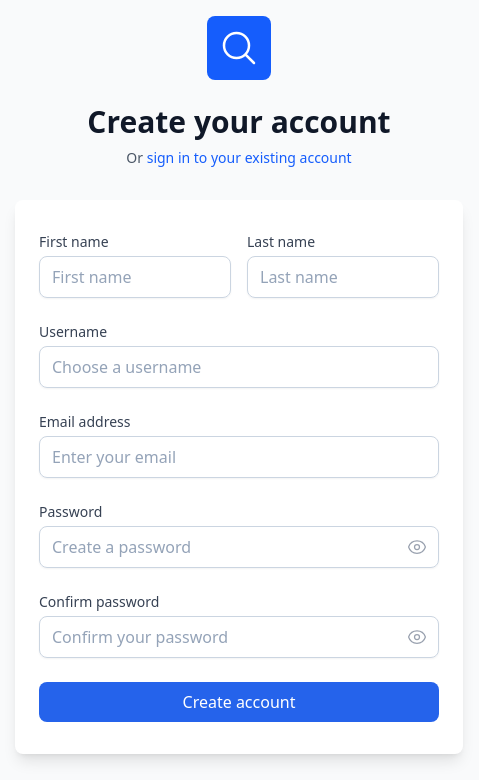
Test: RegisterPage › Form Submission › shows error message when registration fails with 403
This screenshot has width=479, height=780.
# Fill and submit form
Type "John" into the field labelled "First name" at (135, 277), box x1=39 y1=256 x2=231 y2=298
Type "Doe" into the field labelled "Last name" at (343, 277), box x1=247 y1=256 x2=439 y2=298
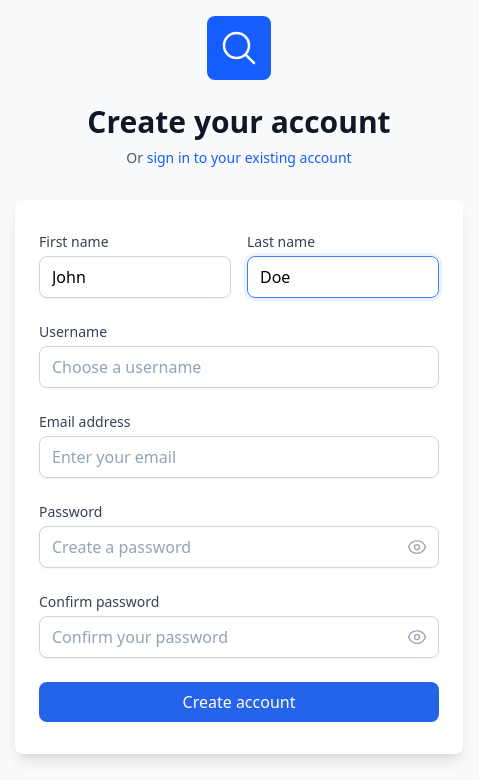
Type "johndoe" into the field labelled "Username" at (239, 367), box x1=39 y1=346 x2=439 y2=388
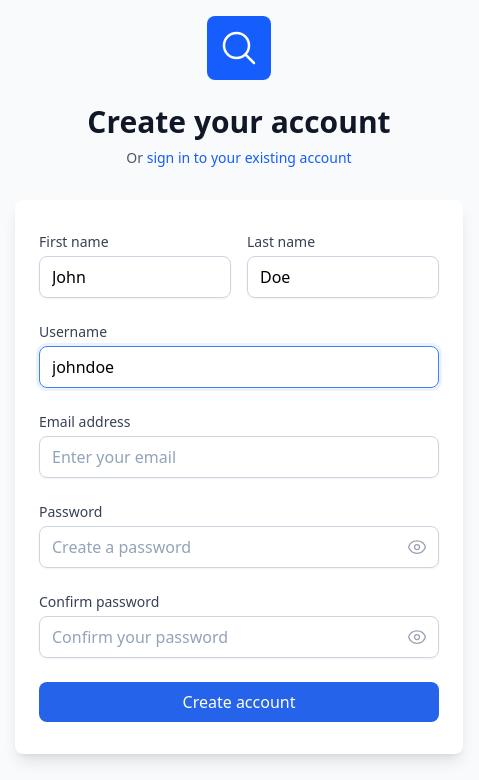
Type "john@example.com" into the field labelled "Email address" at (239, 457), box x1=39 y1=436 x2=439 y2=478
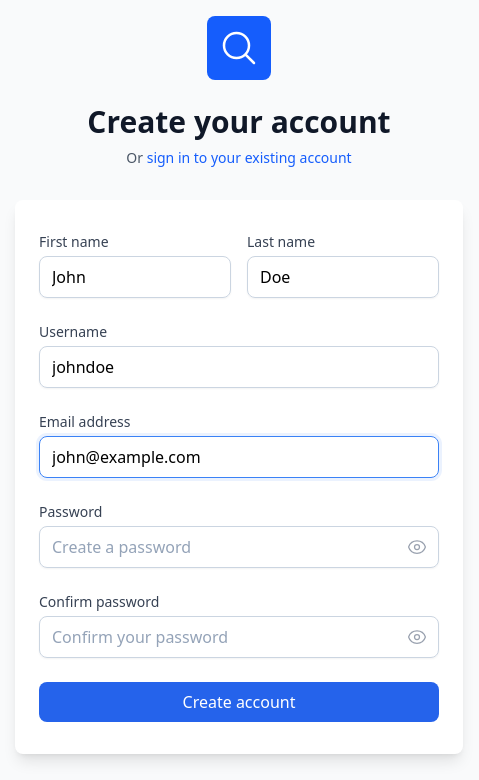
Type "Password123!" into the password field labelled "Password" at (239, 547), box x1=39 y1=526 x2=439 y2=568
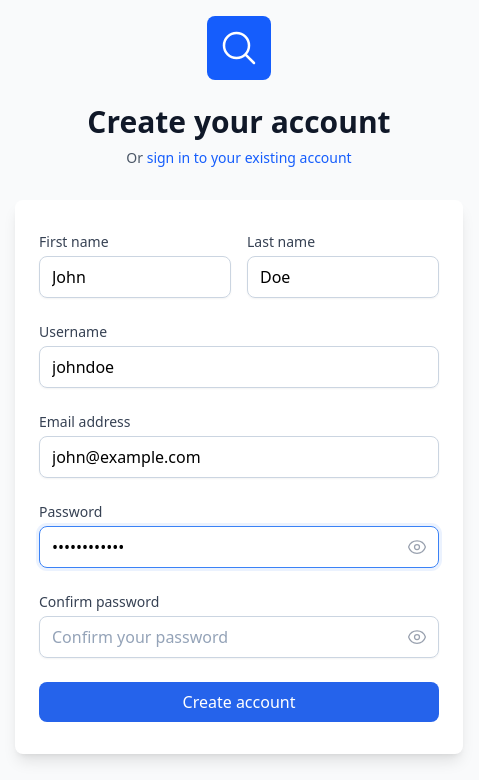
Type "Password123!" into the password field labelled "Confirm password" at (239, 637), box x1=39 y1=616 x2=439 y2=658
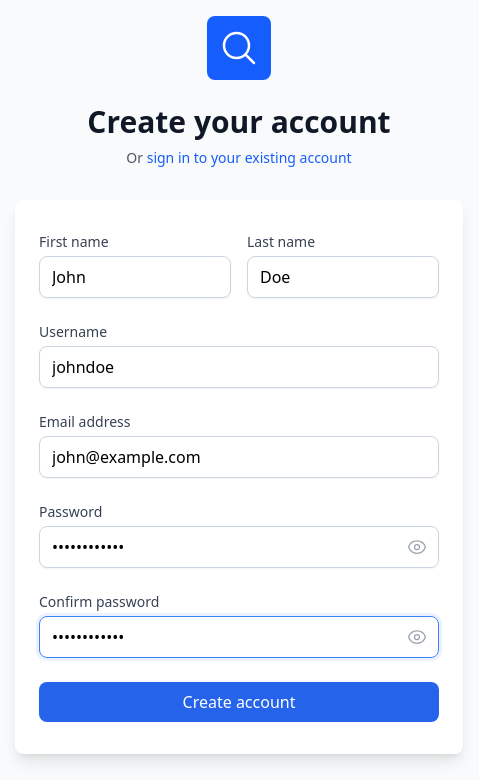
Click the button "Create account" at (239, 702), box x1=39 y1=682 x2=439 y2=722
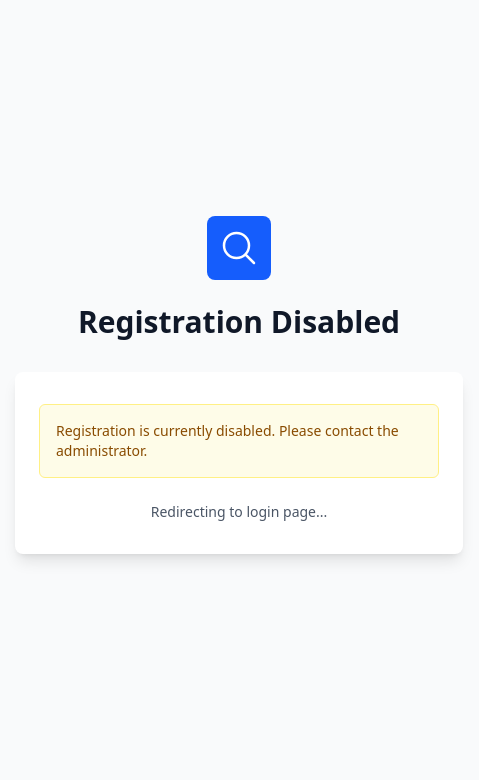
Expected: the text "Registration is currently disabled" is shown, x1=56 y1=421 x2=399 y2=460
